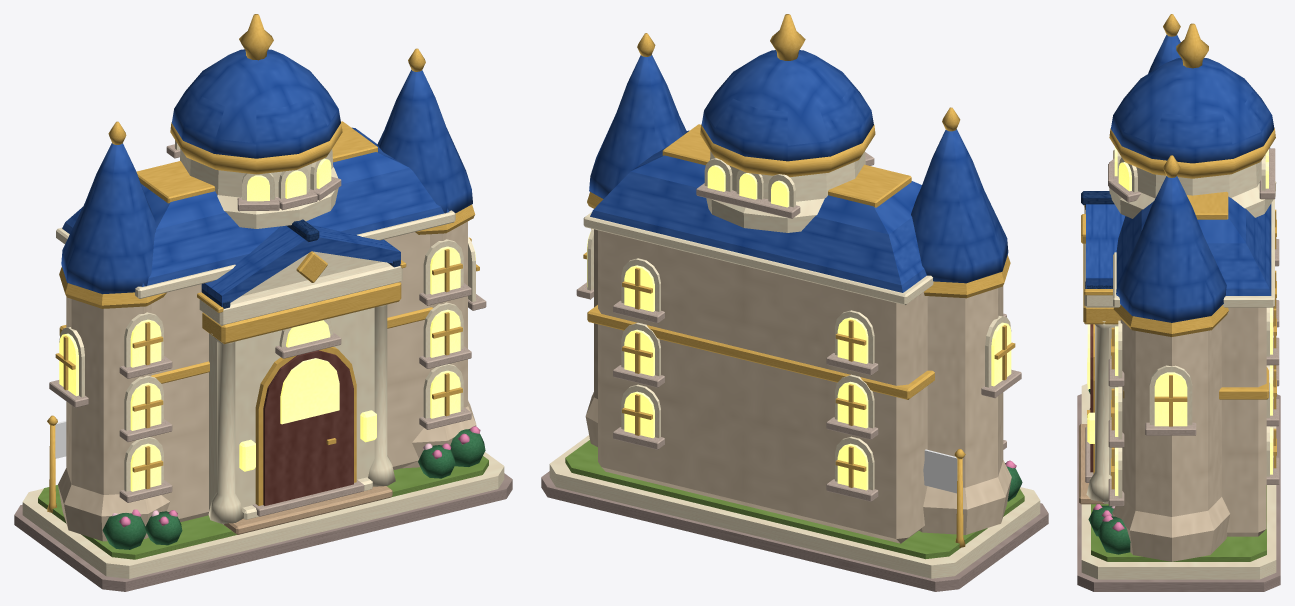
The model's file is hotel.glb.
3 views of the same model, side by side, from view 1: azimuth 30°, elevation 25°; view 2: azimuth 150°, elevation 25°; view 3: azimuth 270°, elevation 25° (orthographic). The views are drawn at different scales.
Visible parts, largest first — view 1: arcade-hotel; view 2: arcade-hotel; view 3: arcade-hotel.
Boxes of the visible parts, x1,y1,x2,y2 form: arcade-hotel: (14,14,512,591); arcade-hotel: (541,14,1048,591); arcade-hotel: (1077,14,1280,591).
Bounding box in the file's own units: 1.48 × 1.67 × 0.654.
5 materials, 4 textured.
